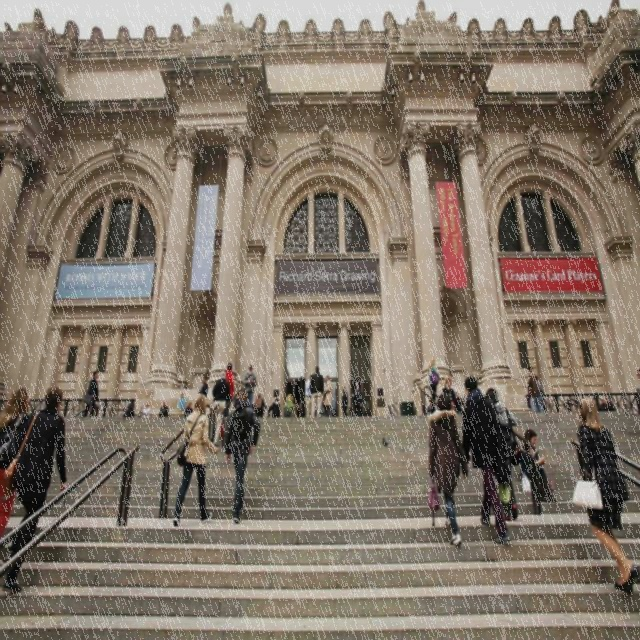pessoa: (572, 396, 640, 596), (461, 374, 512, 542), (172, 392, 222, 526), (428, 391, 468, 547), (484, 387, 522, 520), (224, 393, 260, 524), (0, 385, 31, 537), (519, 427, 557, 502), (210, 369, 231, 446), (80, 370, 100, 418), (240, 362, 258, 409), (440, 376, 460, 416), (310, 364, 324, 420), (428, 356, 440, 414), (224, 362, 235, 419), (526, 364, 538, 414), (351, 380, 364, 418), (534, 373, 546, 414), (304, 374, 314, 422), (322, 376, 332, 418), (284, 394, 294, 436), (254, 392, 267, 419), (596, 394, 616, 411), (198, 375, 210, 400), (176, 392, 186, 421), (268, 396, 281, 418), (454, 390, 464, 415), (158, 398, 170, 418), (342, 386, 349, 418), (122, 399, 135, 416), (291, 398, 302, 418), (426, 398, 436, 415), (140, 402, 150, 419), (184, 402, 194, 418), (233, 392, 242, 408), (634, 367, 640, 380)
